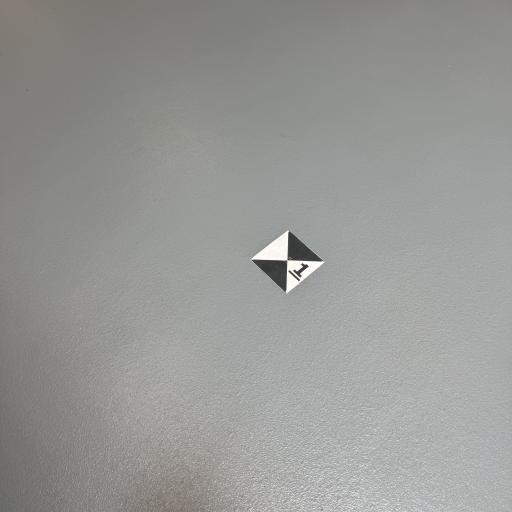target1: (250, 228, 325, 293)
